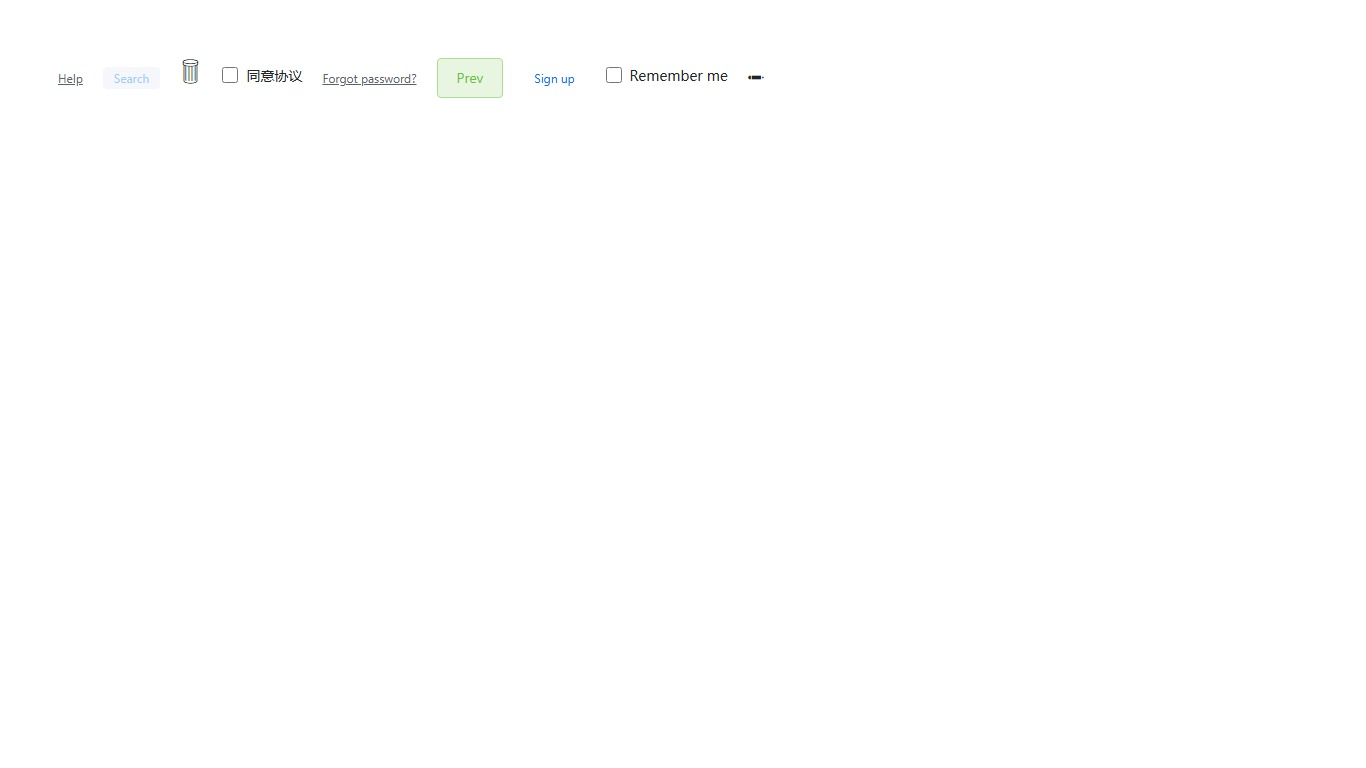button: (437, 58, 503, 98), (523, 67, 586, 89), (103, 67, 160, 89)
checkbox: (222, 67, 238, 83), (606, 67, 622, 83)
icon: (630, 65, 728, 84), (246, 65, 302, 84), (180, 54, 202, 86), (748, 69, 764, 85)
link: (322, 70, 417, 86), (58, 70, 83, 86)
radio: (606, 65, 728, 84), (222, 65, 302, 84)
